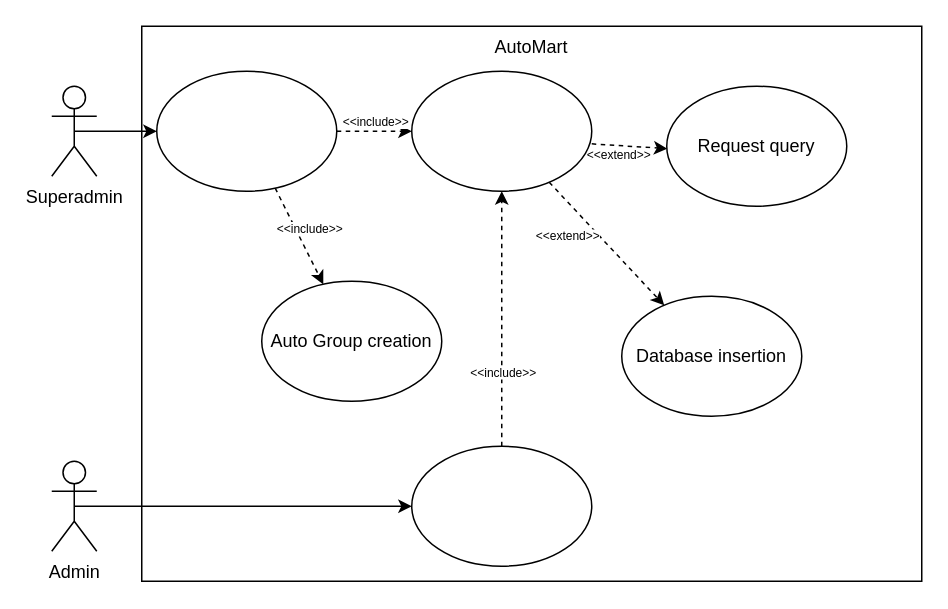
This 948x609 diagram has some shape labels left out. Here are the shapes that lost their labels. From the top down, the centre of each, then its label:
pixel 246 130: Request verification
pixel 501 130: Database access
pixel 501 505: Request creation
